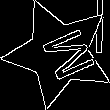M_SW: (26, 22, 92, 85)
